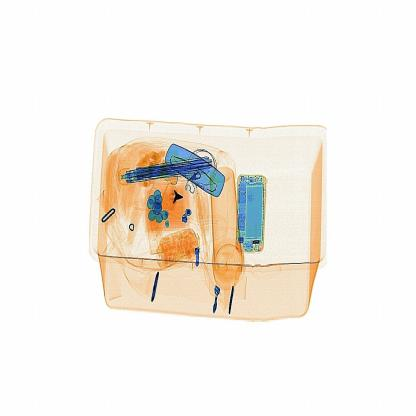gun: (160, 179, 185, 213)
